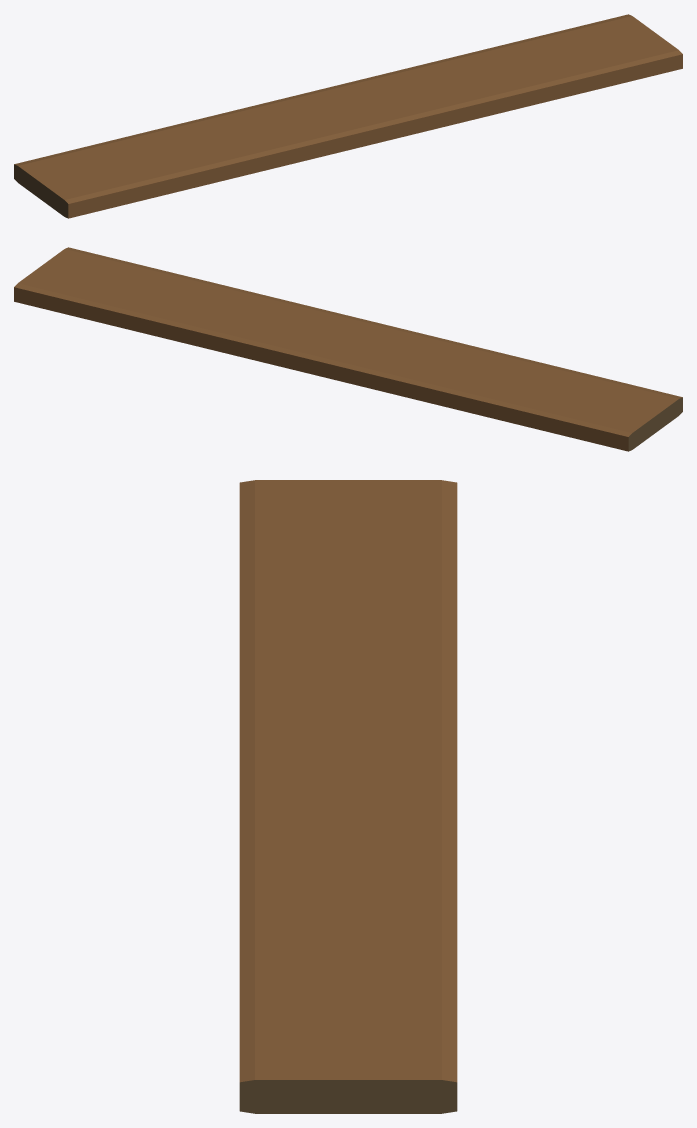
Rendered from Wood_Plank.fbx.
3 renders of one model, top to bottom at view 1: azimuth 30°, elevation 25°; view 2: azimuth 150°, elevation 25°; view 3: azimuth 270°, elevation 25°, orthographic. The views are drawn at different scales.
Visible parts, largest first — view 1: Cube.004; view 2: Cube.004; view 3: Cube.004.
Part boxes in pixels (x1,y1,x2,y2): Cube.004: [14, 14, 682, 218]; Cube.004: [14, 247, 682, 451]; Cube.004: [239, 480, 457, 1113].
Size of the model in its own units: 746 by 19.65 by 114.
